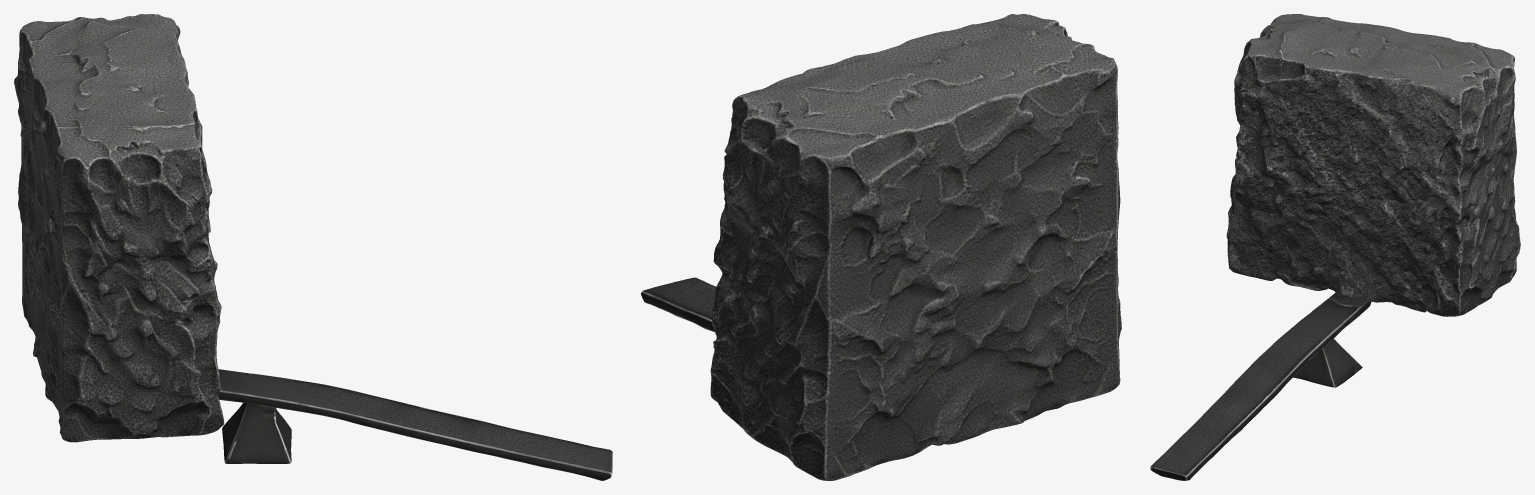
File: alavanca-3d-web.glb
The picture shows the model from 3 angles, left to right: view 1: azimuth 30°, elevation 25°; view 2: azimuth 150°, elevation 25°; view 3: azimuth 270°, elevation 25°; orthographic projection. The views are drawn at different scales.
Visible parts, largest first — view 1: Mesh1.0; view 2: Mesh1.0; view 3: Mesh1.0.
Part boxes in pixels (<box>): Mesh1.0: <box>14,14,612,480</box>; Mesh1.0: <box>641,14,1121,480</box>; Mesh1.0: <box>1150,14,1520,480</box>.
Bounding box in the file's own units: 2 × 1.53 × 1.71.
1 material, 1 textured.
